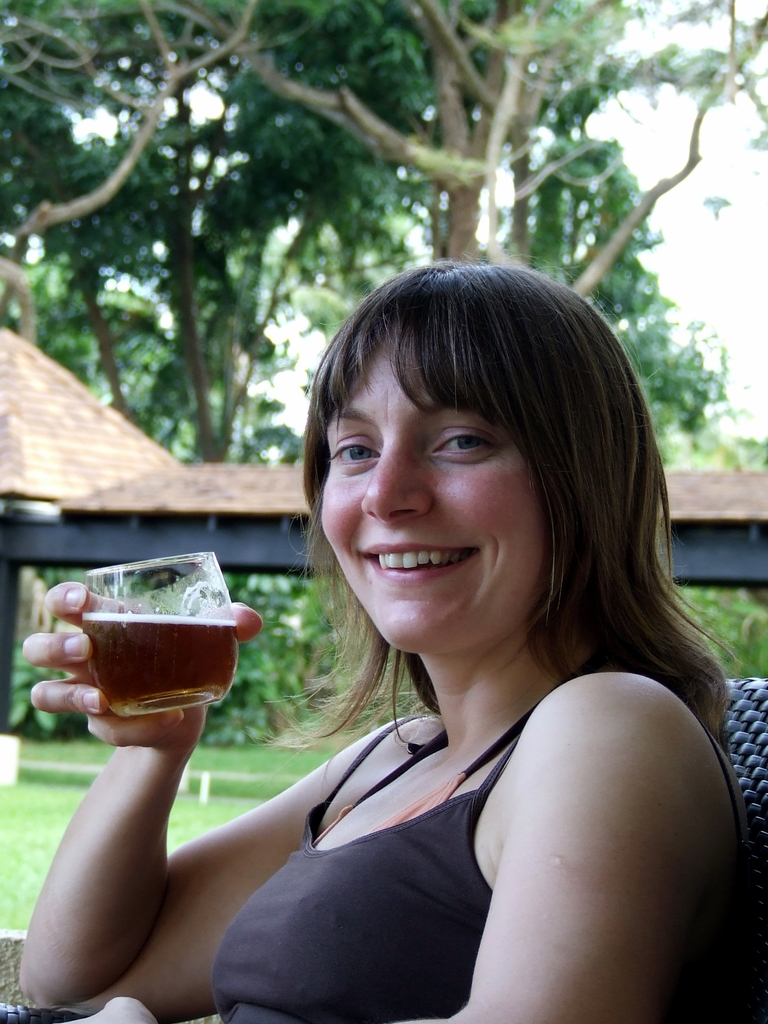Beer: (83, 602, 234, 712)
